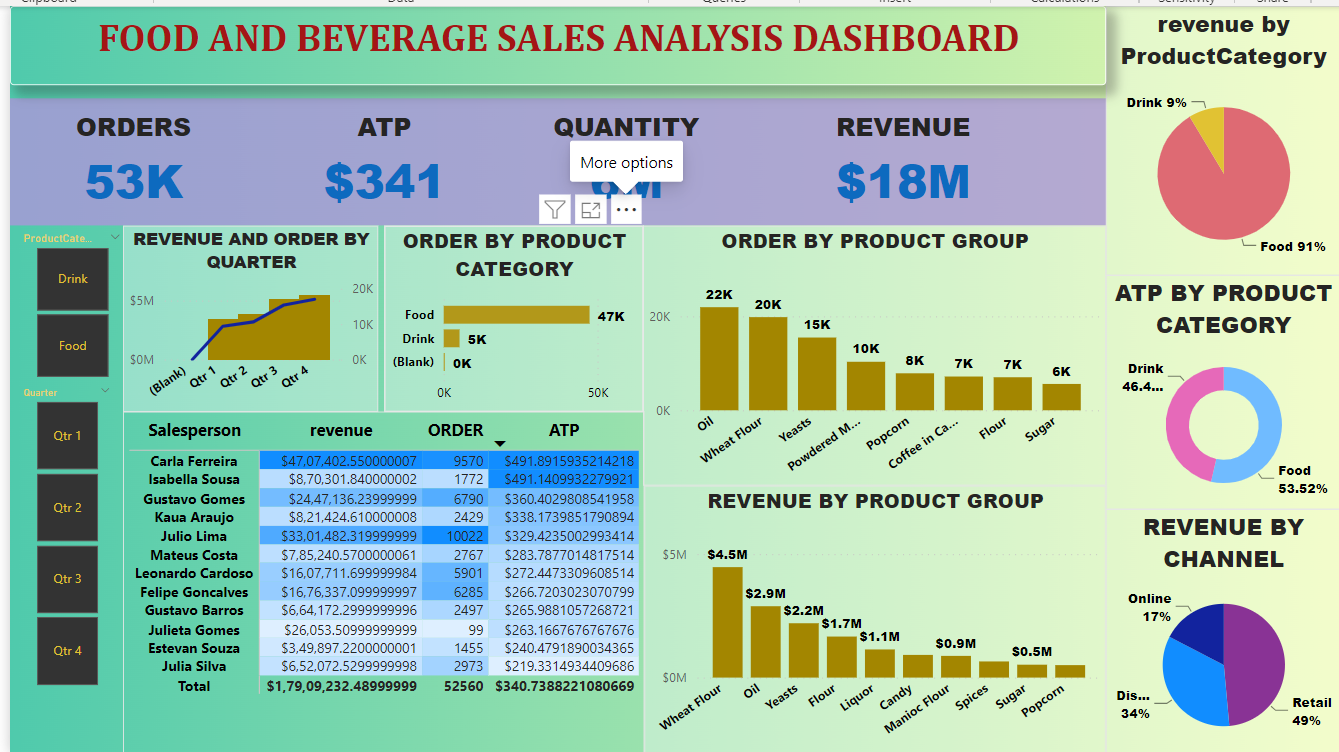

This screenshot's page, from the dashboard's own definition file:
{"tool":"powerbi","page":{"name":"Page 1","canvas":[1280,720],"ordinal":0},"visuals":[{"type":"shape","box":[0,88.8,1054.4,122.6],"z":0},{"type":"card","title":"REVENUE","fields":{"Values":["Product.revenue"]},"box":[751.7,98.8,215.1,102.6],"z":1000},{"type":"card","title":"QUANTITY","fields":{"Values":["sales.Quantity"]},"box":[485.3,98.8,215.1,102.6],"z":2000},{"type":"pieChart","fields":{"Y":["Product.revenue"],"Category":["Product.ProductCategory"]},"box":[1054.4,0,225.1,258.9],"z":3000},{"type":"pieChart","title":"REVENUE BY CHANNEL","fields":{"Y":["Product.revenue"],"Category":["sales.Channel"]},"box":[1054.4,484,225.1,236.4],"z":4000},{"type":"card","title":"ATP","fields":{"Values":["Product.AVERAGE TICKET PRICE"]},"box":[287.7,98.8,145.1,102.6],"z":5000},{"type":"card","title":"ORDERS","fields":{"Values":["Product.ORDER"]},"box":[35,98.8,167.6,102.6],"z":6000},{"type":"donutChart","title":"ATP BY PRODUCT CATEGORY","fields":{"Y":["Product.AVERAGE TICKET PRICE"],"Category":["Product.ProductCategory"]},"box":[1054.4,258.9,225.1,225.1],"z":7000},{"type":"columnChart","title":"ORDER BY PRODUCT GROUP","fields":{"Y":["Product.ORDER"],"Category":["Product.ProductGroup"]},"box":[608.8,211.1,445.1,249.9],"z":8000},{"type":"columnChart","title":"REVENUE BY PRODUCT GROUP","fields":{"Y":["Product.revenue"],"Category":["Product.ProductGroup"]},"box":[610.3,460.9,443.7,258.5],"z":9000},{"type":"textbox","box":[0,0,1054.4,76.3],"z":11000},{"type":"lineStackedColumnComboChart","title":"REVENUE AND ORDER BY QUARTER","fields":{"Y":["Product.revenue"],"Category":["sales.OrderDate.Variation.Date Hierarchy.Quarter"],"Y2":["Product.ORDER"]},"box":[108.8,211.4,245.1,178.9],"z":12000},{"type":"barChart","title":" ORDER BY PRODUCT CATEGORY","fields":{"Category":["Product.ProductCategory"],"Y":["Product.ORDER"]},"box":[360.2,211.4,248.9,178.9],"z":13000},{"type":"pivotTable","fields":{"Rows":["sales.Salesperson"],"Values":["Product.revenue","Product.ORDER","Product.AVERAGE TICKET PRICE"]},"box":[108.8,390.2,501.5,330.2],"z":14000},{"type":"slicer","fields":{"Values":["Product.ProductCategory"]},"box":[0,211.4,118.8,152.6],"z":15000},{"type":"slicer","fields":{"Values":["sales.OrderDate.Variation.Date Hierarchy.Quarter"]},"box":[0,360.2,108.8,300.2],"z":15001}]}

Visuals, with their boxes on the page's 1280x720 design canvas (x1, y1, x2, y2). These are canvas units, not pixel positions in the 1339x752 screenshot, which may show the page scaled, cropped or inside an application window:
shape: l=0, t=89, r=1054, b=211
"REVENUE" card: l=752, t=99, r=967, b=201
"QUANTITY" card: l=485, t=99, r=700, b=201
pieChart - Product.revenue x Product.ProductCategory: l=1054, t=0, r=1280, b=259
"REVENUE BY CHANNEL" pieChart: l=1054, t=484, r=1280, b=720
"ATP" card: l=288, t=99, r=433, b=201
"ORDERS" card: l=35, t=99, r=203, b=201
"ATP BY PRODUCT CATEGORY" donutChart: l=1054, t=259, r=1280, b=484
"ORDER BY PRODUCT GROUP" columnChart: l=609, t=211, r=1054, b=461
"REVENUE BY PRODUCT GROUP" columnChart: l=610, t=461, r=1054, b=719
textbox: l=0, t=0, r=1054, b=76
"REVENUE AND ORDER BY QUARTER" lineStackedColumnComboChart: l=109, t=211, r=354, b=390
" ORDER BY PRODUCT CATEGORY" barChart: l=360, t=211, r=609, b=390
pivotTable - sales.Salesperson x Product.revenue: l=109, t=390, r=610, b=720
slicer - Product.ProductCategory: l=0, t=211, r=119, b=364
slicer - sales.OrderDate.Variation.Date Hierarchy.Quarter: l=0, t=360, r=109, b=660
